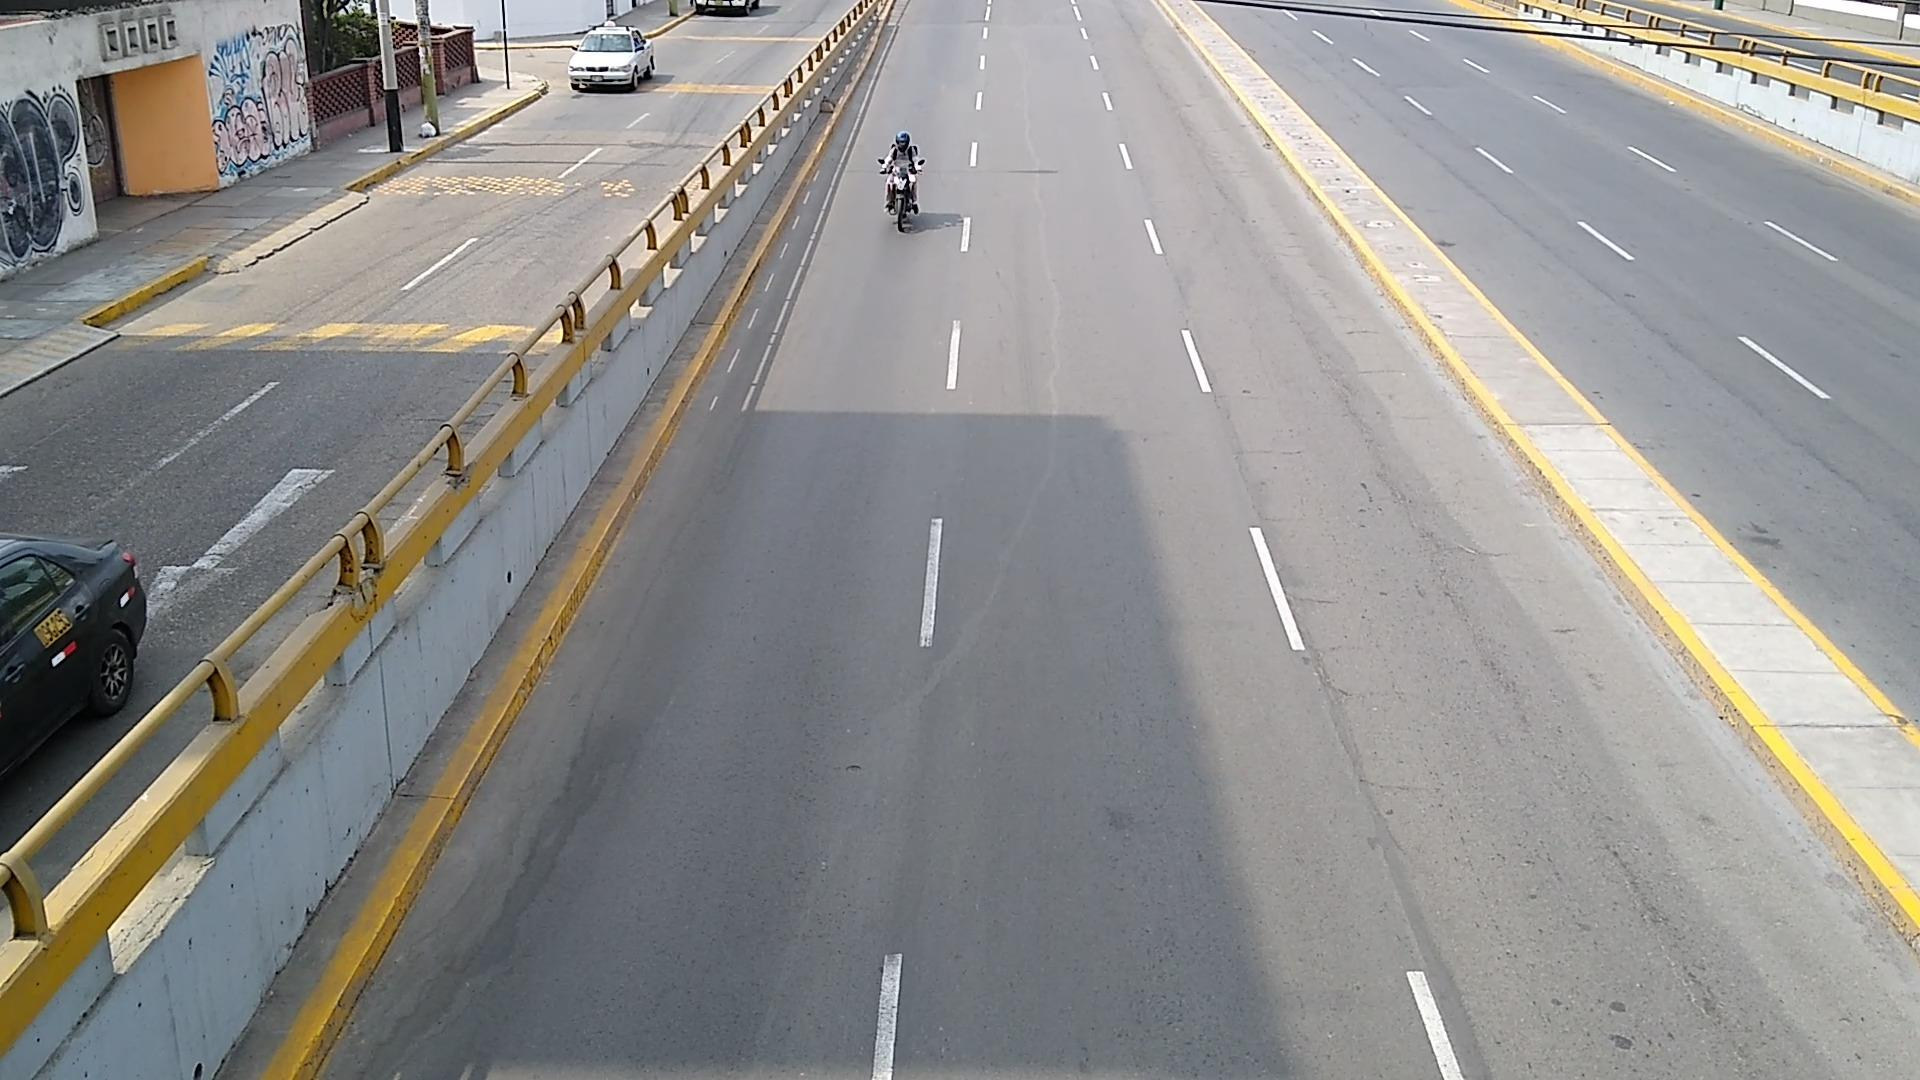car: (0, 533, 146, 774), (570, 26, 653, 90)
motorcycle: (889, 169, 911, 232)
motorcyclist: (881, 132, 923, 227)
